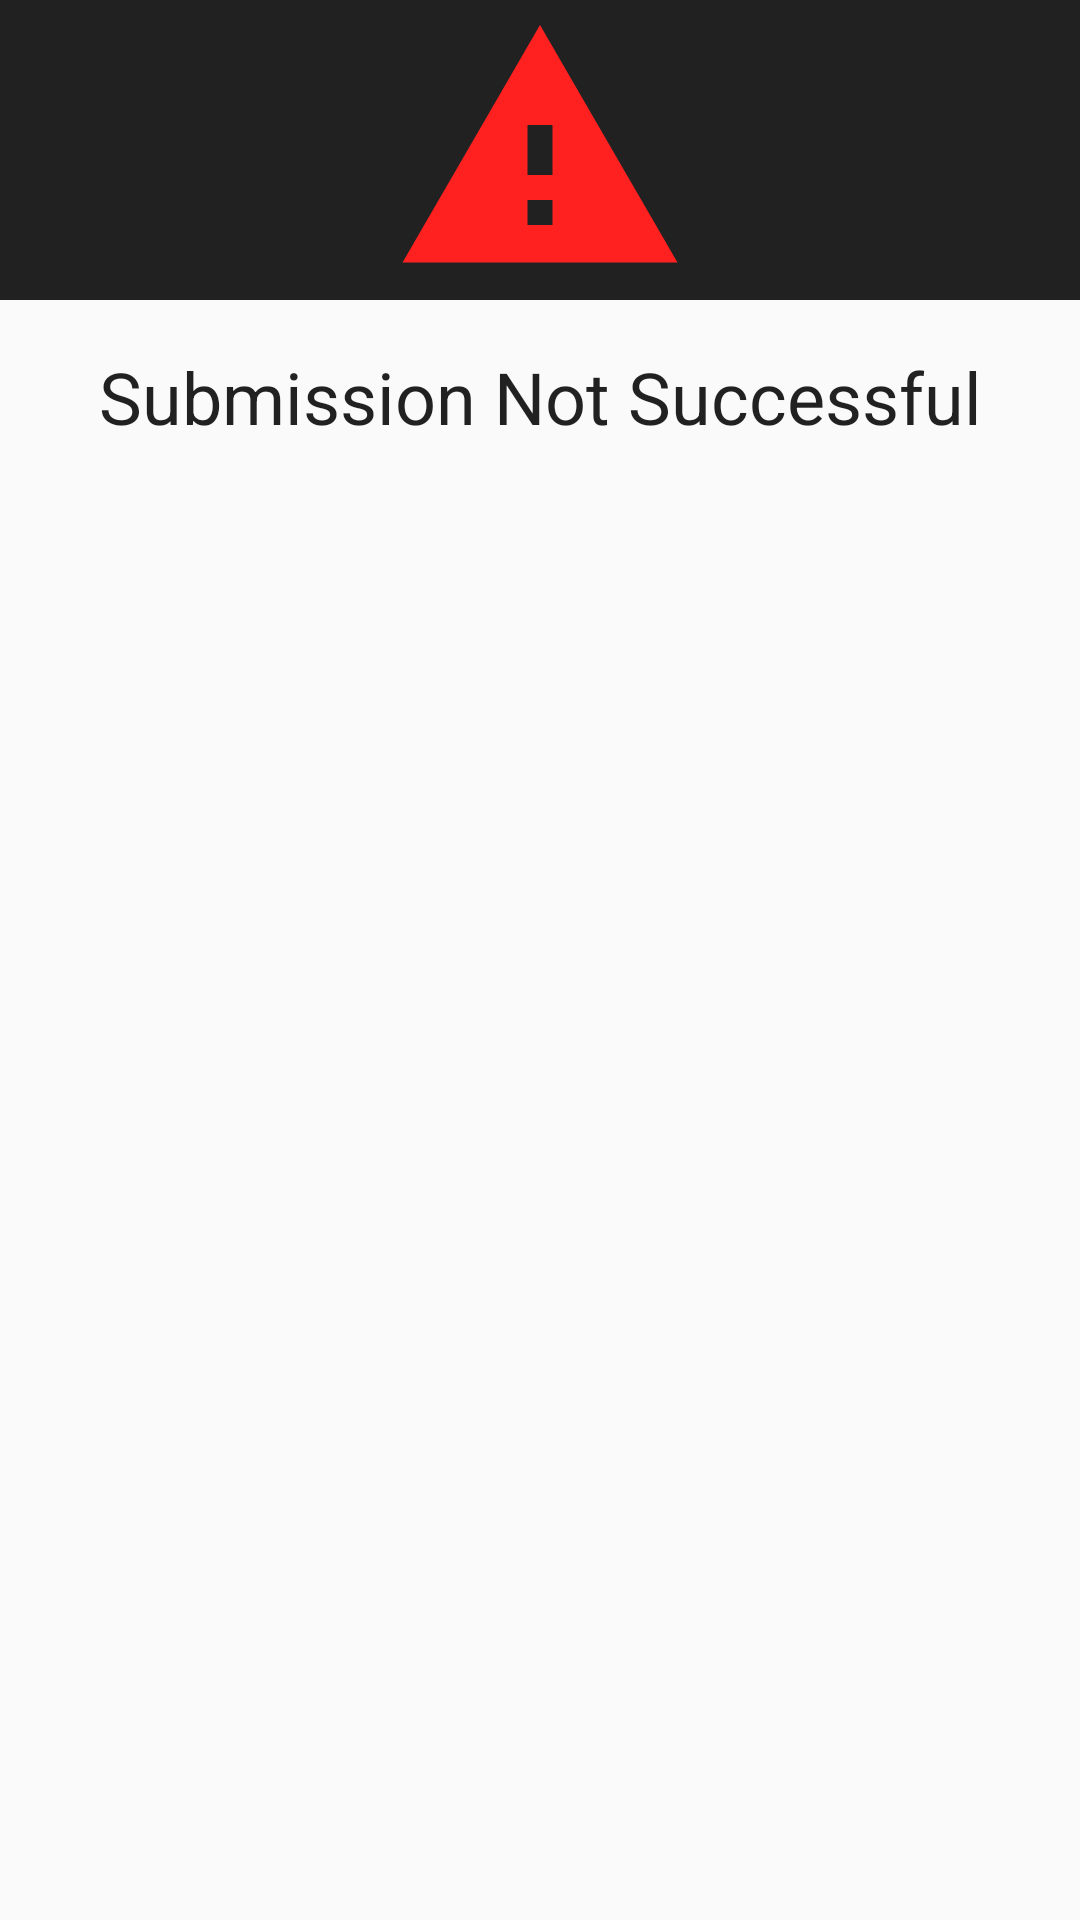

Icon bounding boxes for this 1080x1920 phone screenshot, format {"x1": x1, "y1": y1, "x2": x2, "y2": y2}:
error: {"x1": 402, "y1": 25, "x2": 678, "y2": 263}
